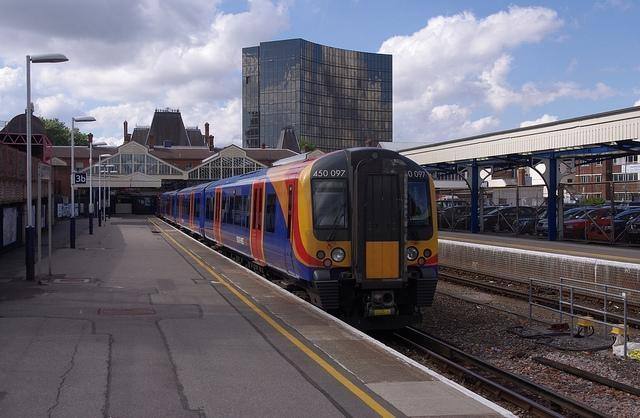car: (564, 209, 604, 239), (536, 208, 582, 234), (489, 206, 534, 230), (462, 206, 505, 230), (514, 208, 550, 236), (437, 205, 471, 230), (607, 208, 640, 224), (627, 215, 640, 243)
